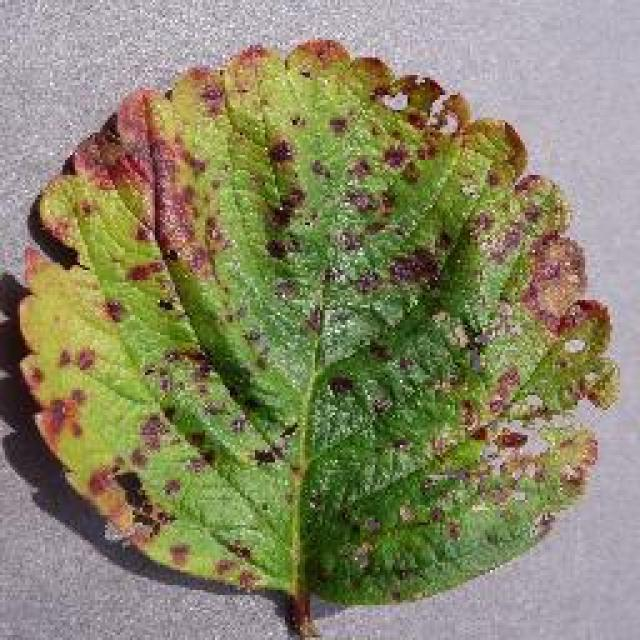Strawberry leaf scorch: (107, 113, 528, 535)
